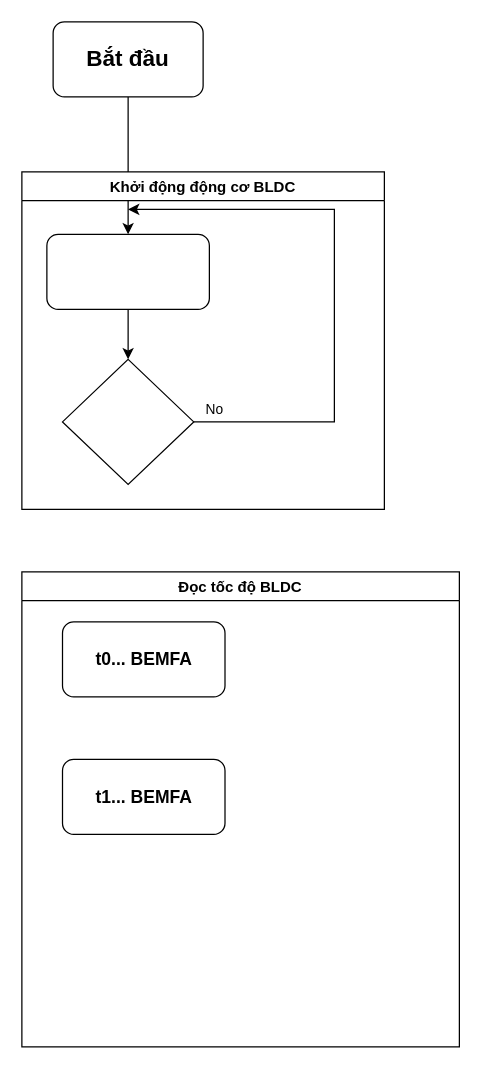
Some shapes in this 481 by 1069 pixel diagram are drawn without their labels. Here are the shapes that lost their labels. From the top down, the box of each, then its label:
(46, 233, 209, 309): Tăng chu kỳ PWM theo thời gian
(61, 358, 194, 484): Nếu tốc độ > 500rmp
